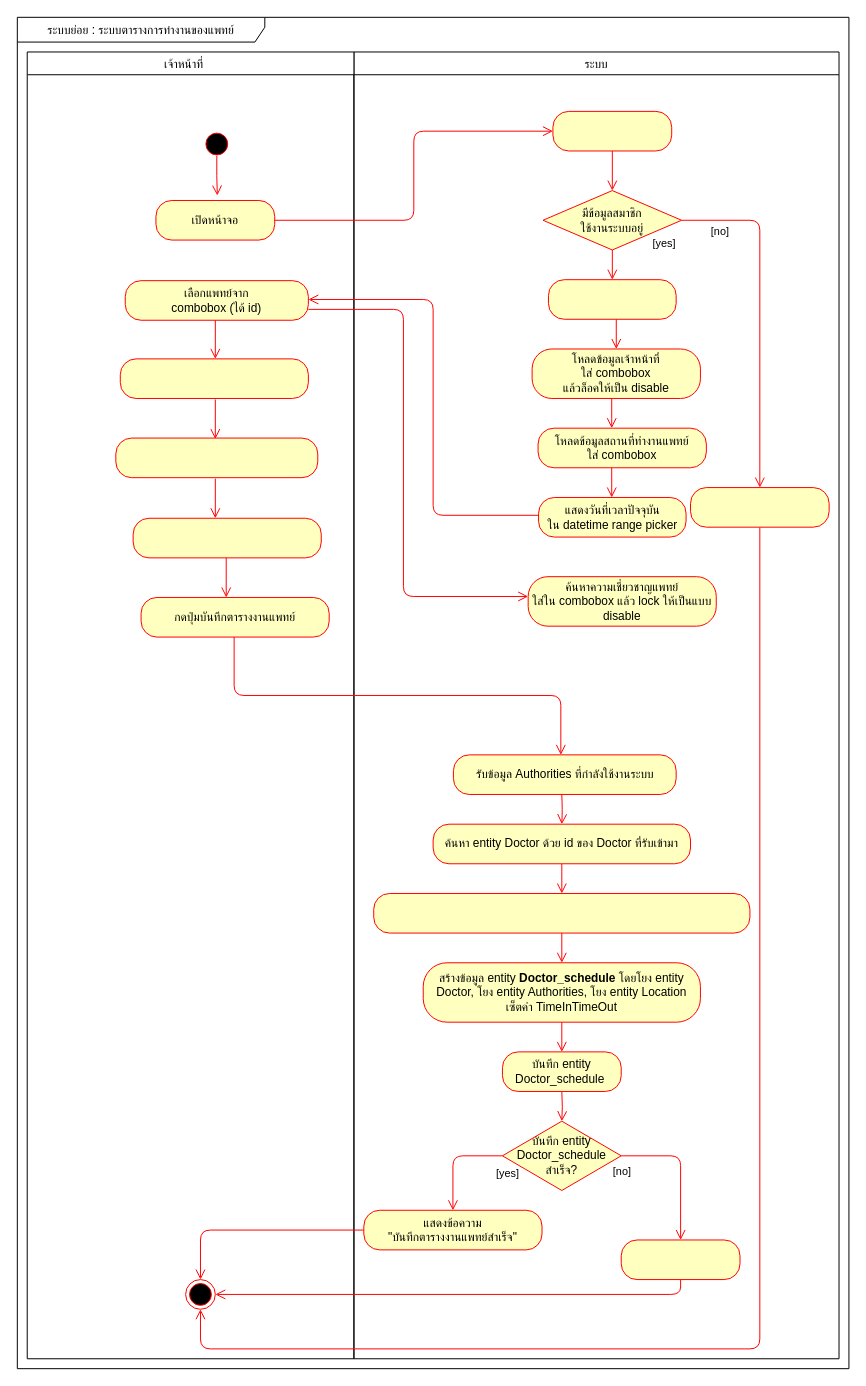
The diagram is 866 pixels wide and 1386 high, and some of its shapes have lost their labels. The centre of each missing label's shape, as x and y in pixels:
ค้นหา entity Location ด้วย id ของ location ที่รับเข้ามา: (x=561, y=912)
เลือกวันที่เวลาจาก datetime picker (ได้ข้อมูลวัน เวลา): (x=226, y=537)
เลือกสถานที่ทำงานแพทย์จาก combobox (ได้ id): (x=213, y=378)
เลือกห้องจาก combobox (ได้ id ข้อมูลห้อง): (x=216, y=457)
แสดงข้อความ "การบันทึกผิดพลาด": (x=680, y=1259)
แสดงข้อความ ข้อมูลไม่ถูกต้อง: (x=759, y=507)
โหลดข้อมูลสมาชิก ระบบที่กำลังใช้งาน: (x=612, y=130)
โหลดข้อมูลแพทย์ ใส่ combobox: (x=611, y=299)
